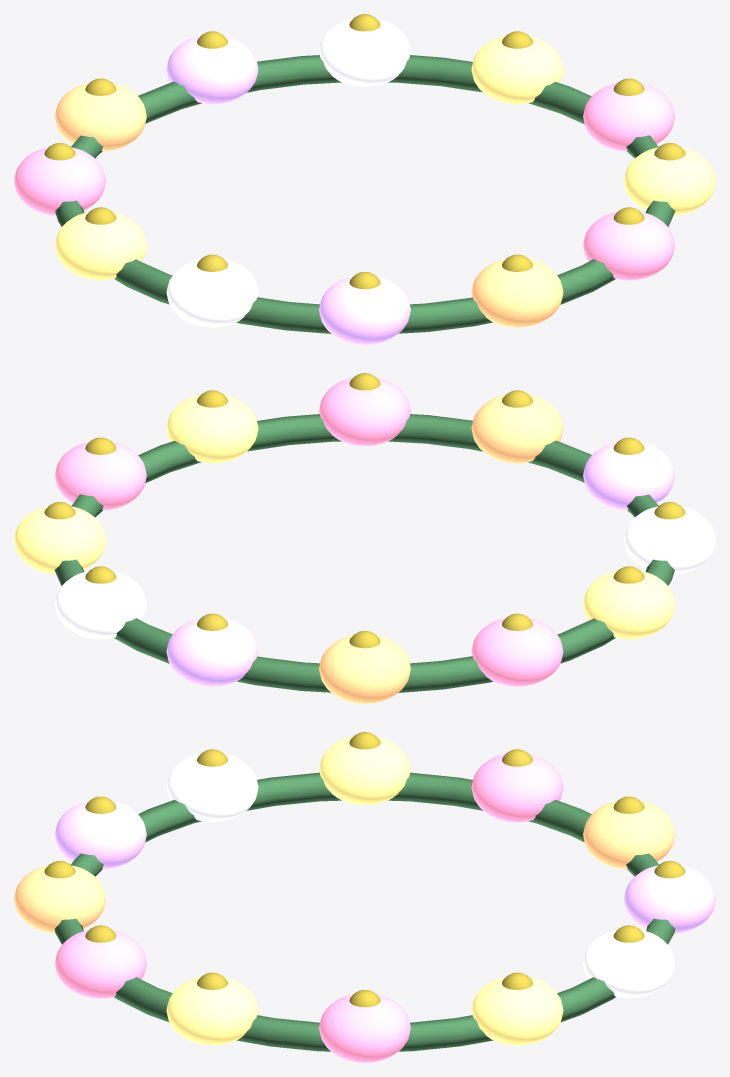
File: flower_crown.glb
3 views of the same model, one above another, from view 1: azimuth 30°, elevation 25°; view 2: azimuth 150°, elevation 25°; view 3: azimuth 270°, elevation 25° (orthographic).
Visible parts, largest first — view 1: flower_crown; view 2: flower_crown; view 3: flower_crown.
Boxes of the visible parts, left/top/right/bottom form: flower_crown: left=14, top=14, right=715, bottom=344; flower_crown: left=14, top=373, right=715, bottom=703; flower_crown: left=14, top=732, right=715, bottom=1062.
Bounding box in the file's own units: 0.244 × 0.0252 × 0.244.
